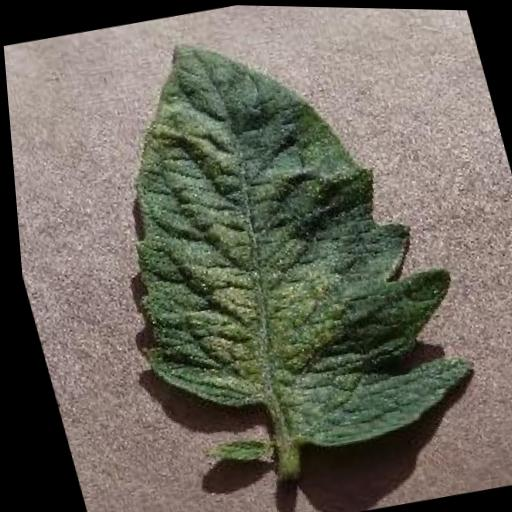Spider Mites: (53, 1, 483, 478)
